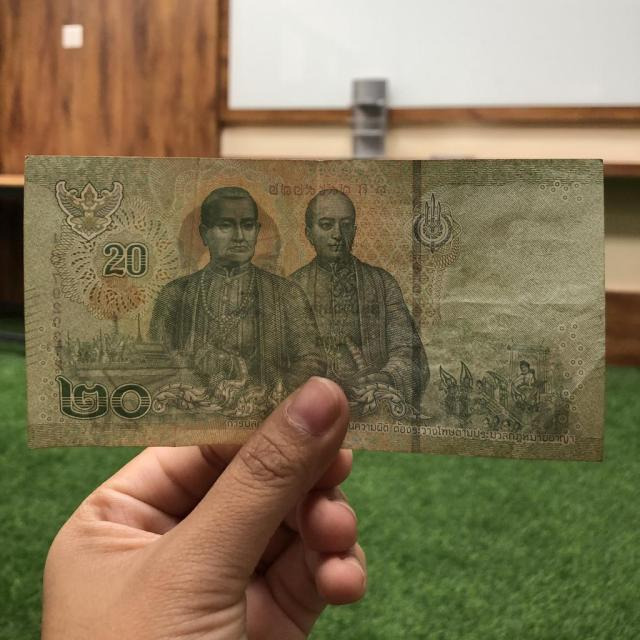THAI20: (24, 156, 604, 461)
